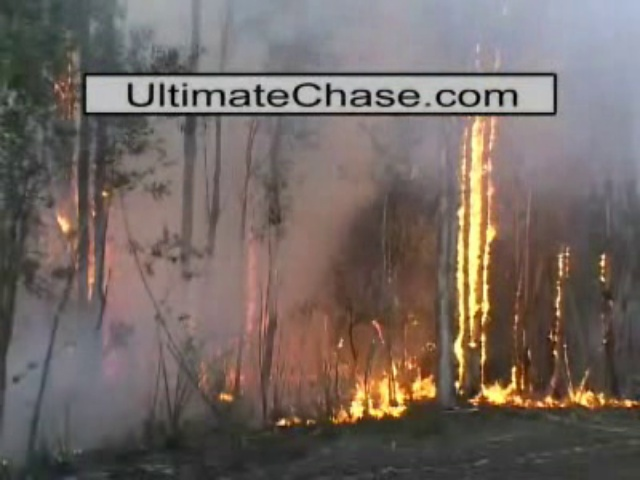fire: (456, 116, 496, 385), (335, 364, 439, 418), (475, 366, 602, 407)
